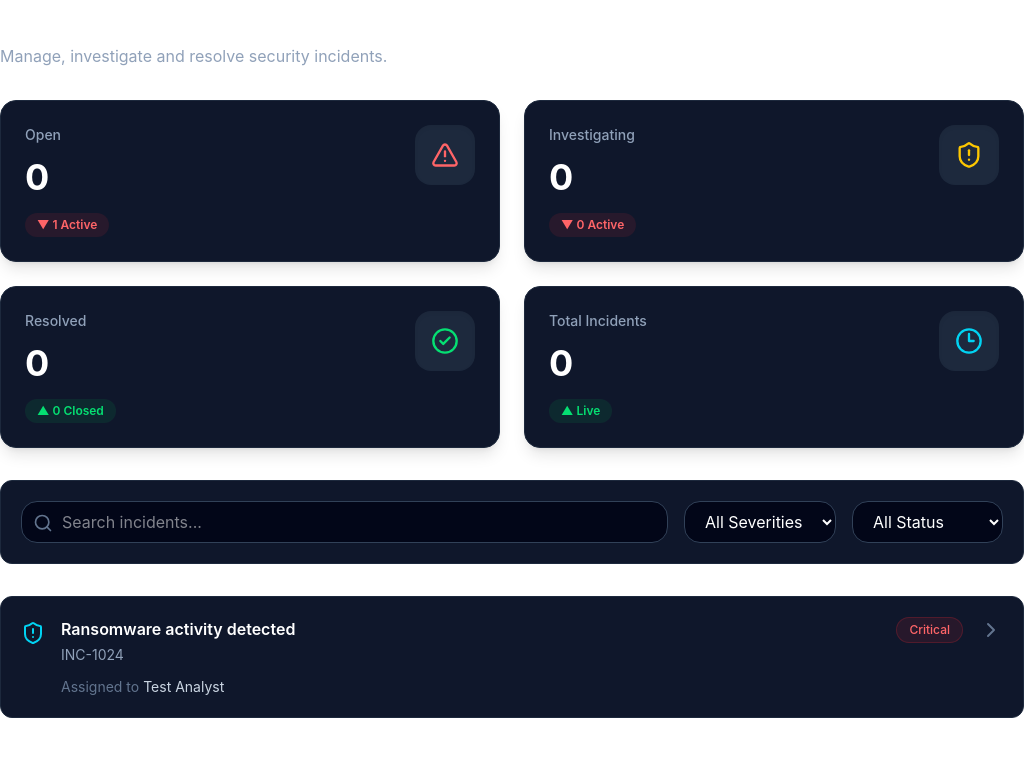
Incident rendering › opens the investigation workspace with the incident's own detail
Click the heading "Ransomware activity detected" at (178, 629), box [61,617,295,641]
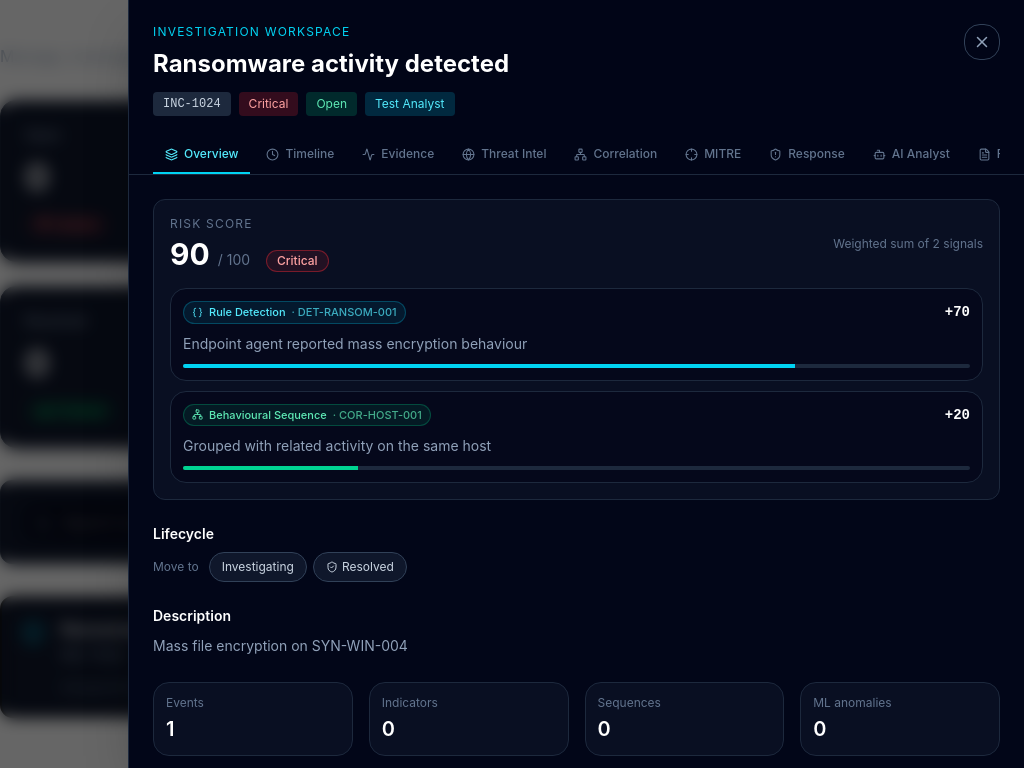
Expected: the text "Investigation Workspace" is shown, [153,24,350,39]
Expected: the text "Test Analyst" is shown, [365,92,454,116]
Expected: the navigation bar is shown, [153,136,1000,174]
